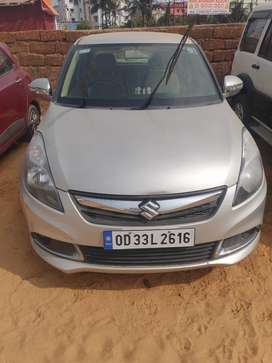OD33L2616: (103, 228, 195, 250)
